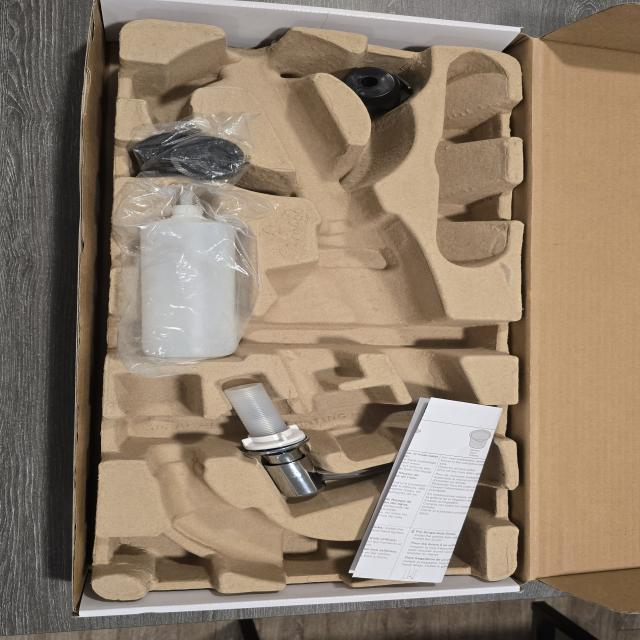1m: (111, 24, 504, 581)
2o: (221, 382, 418, 501)
3: (135, 186, 238, 358)
4m: (434, 49, 508, 267)
5: (344, 65, 413, 115)
6m: (129, 48, 229, 116)
7: (129, 108, 256, 189)
8: (347, 396, 503, 583)
